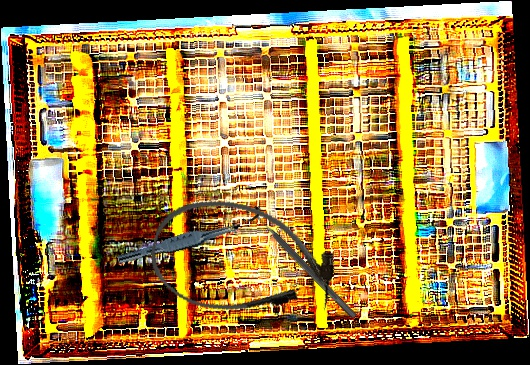Cannula: (141, 185, 345, 336)
Fixation Ring: (241, 204, 363, 325)
Tissue Forceps: (116, 215, 244, 272)
